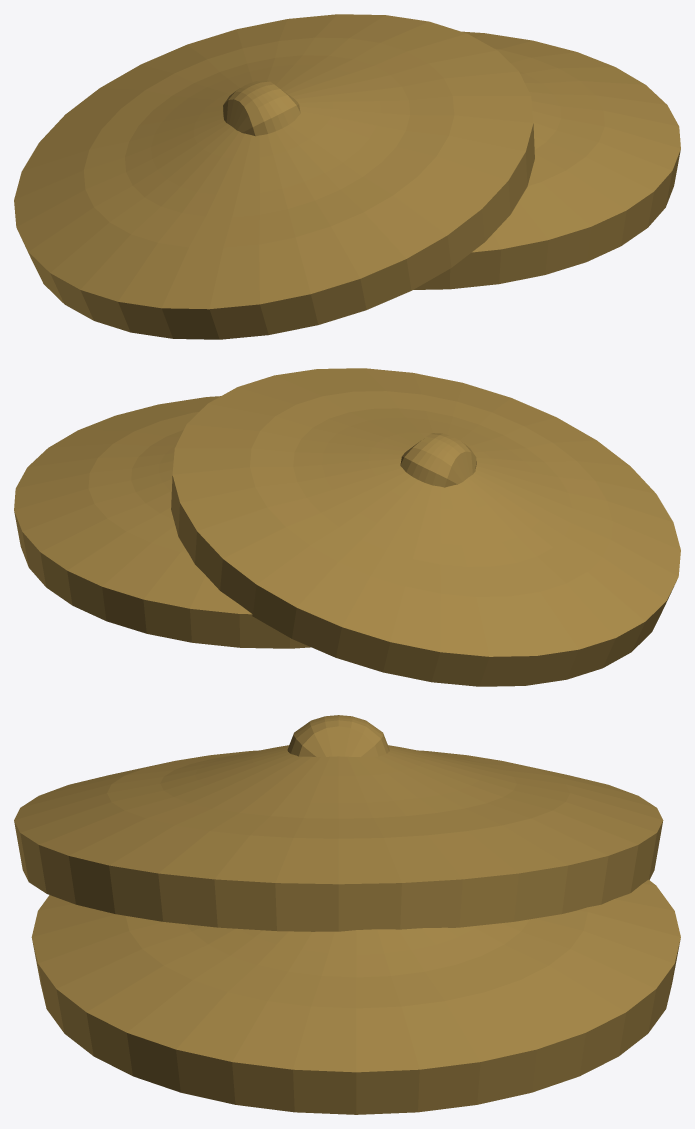
The model's file is Cymbals_1.fbx.
3 views of the same model, one above another, from view 1: azimuth 30°, elevation 25°; view 2: azimuth 150°, elevation 25°; view 3: azimuth 270°, elevation 25° (orthographic). The views are drawn at different scales.
Visible parts, largest first — view 1: Circle.005; view 2: Circle.005; view 3: Circle.005.
Part boxes in pixels (x1,y1,x2,y2): Circle.005: (14, 14, 680, 339); Circle.005: (14, 368, 680, 686); Circle.005: (14, 715, 680, 1114).
Size of the model in its own units: 72.04 by 19.37 by 56.48.
